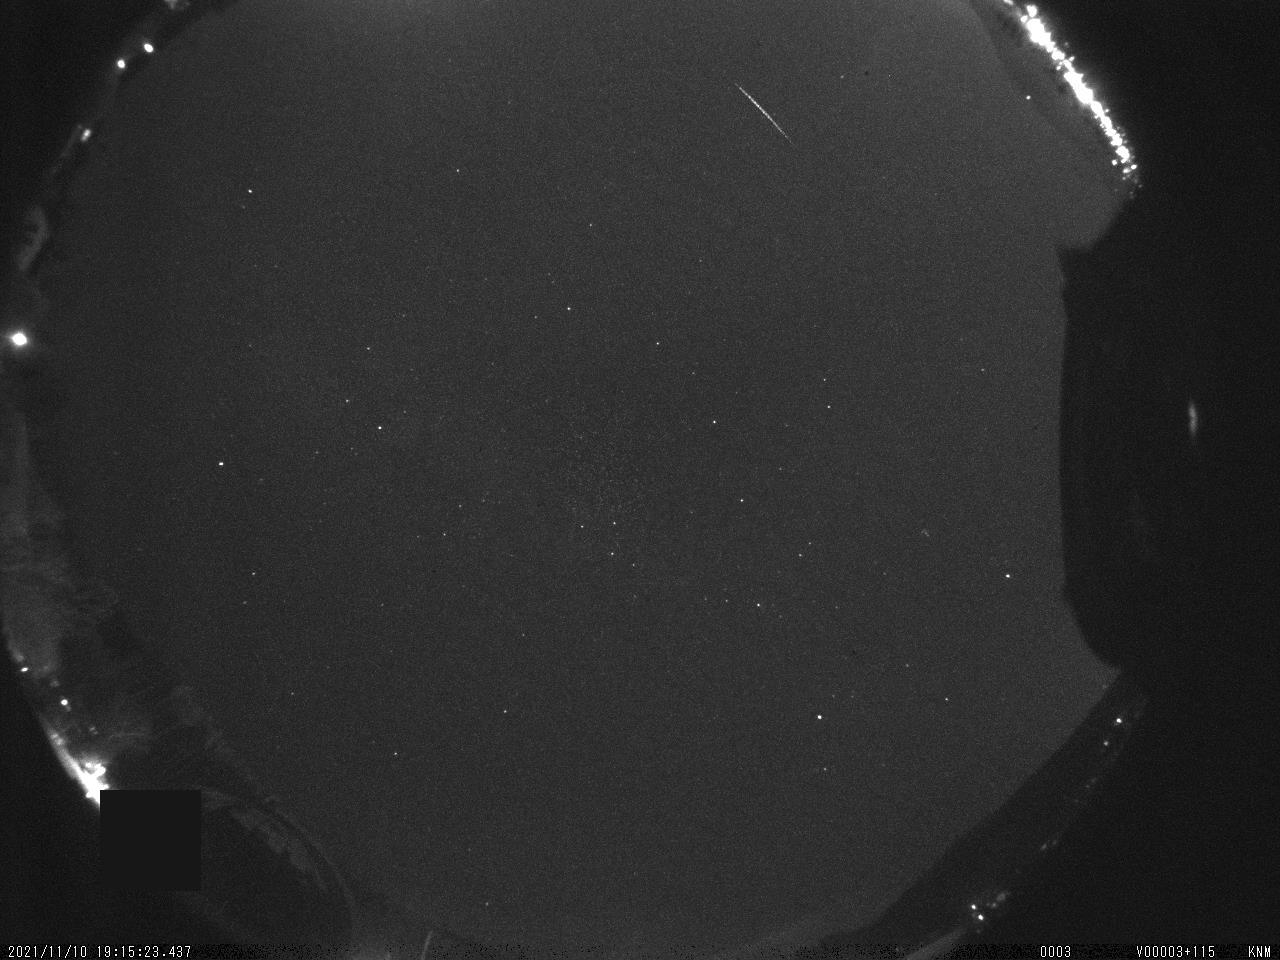meteor: (731, 76, 816, 165)
